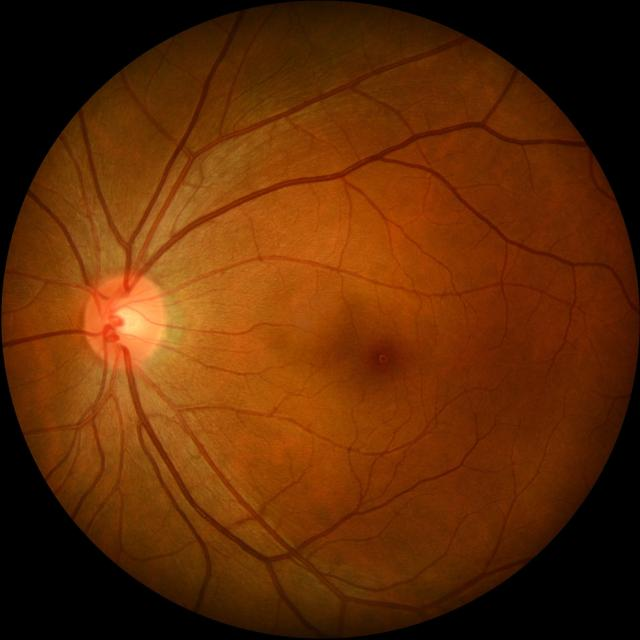OC: (110, 304, 144, 340)
OD: (84, 273, 164, 365)
